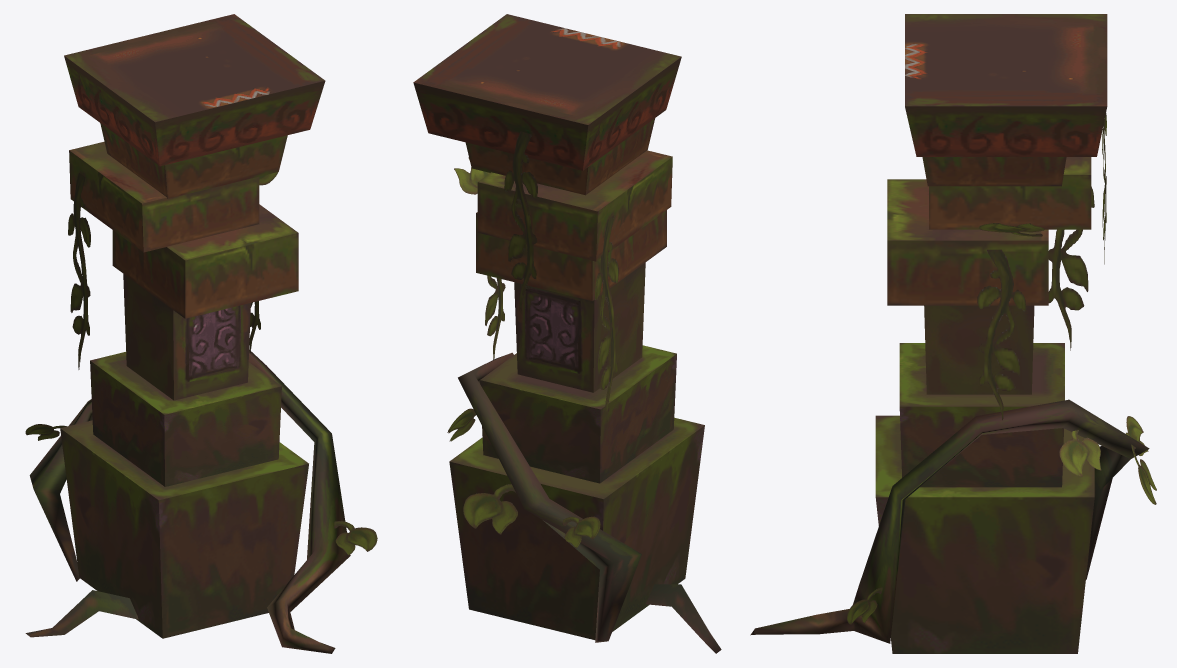
Rendered from xiuluoshixiang02_2.FBX.
3 views of the same model, side by side, from view 1: azimuth 30°, elevation 25°; view 2: azimuth 150°, elevation 25°; view 3: azimuth 270°, elevation 25° (orthographic). The views are drawn at different scales.
Parts seen in each view (by area): view 1: xiuluoshixiang02_2; view 2: xiuluoshixiang02_2; view 3: xiuluoshixiang02_2.
Part boxes in pixels (x1=…): xiuluoshixiang02_2: x1=25, y1=14, x2=377, y2=653; xiuluoshixiang02_2: x1=413, y1=14, x2=721, y2=653; xiuluoshixiang02_2: x1=750, y1=14, x2=1156, y2=653.
Bounding box in the file's own units: 179 × 203 × 318.
